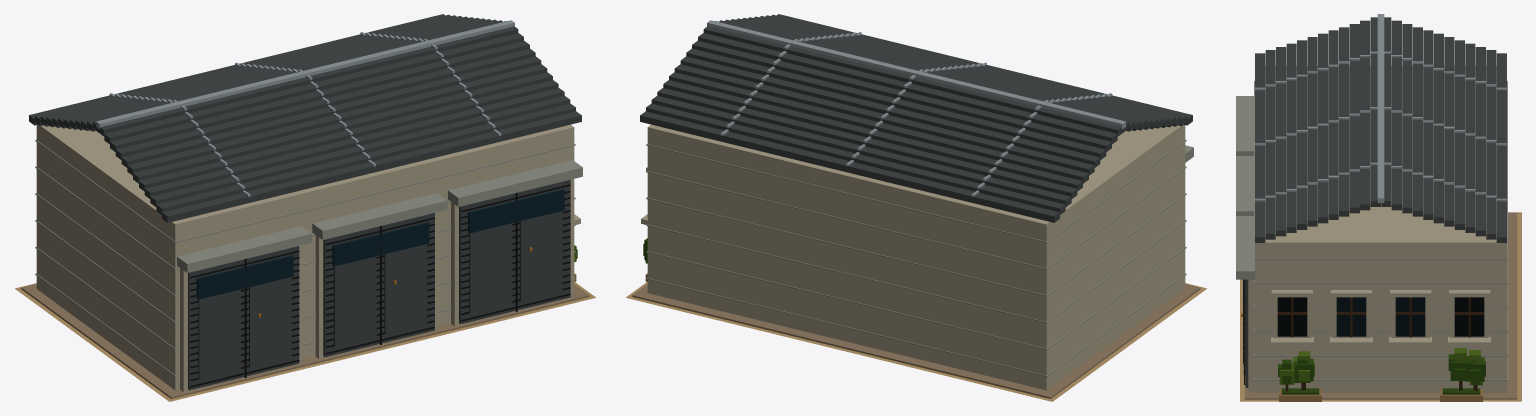
The model's file is SM_Mapa_036.fbx.
3 views of the same model, side by side, from view 1: azimuth 30°, elevation 25°; view 2: azimuth 150°, elevation 25°; view 3: azimuth 270°, elevation 25° (orthographic). The views are drawn at different scales.
Visible parts, largest first — view 1: SM_Mapa_036; view 2: SM_Mapa_036; view 3: SM_Mapa_036.
Part boxes in pixels (x1,y1,x2,y2): SM_Mapa_036: [15, 14, 595, 401]; SM_Mapa_036: [626, 14, 1206, 401]; SM_Mapa_036: [1236, 14, 1521, 401].
Bounding box in the file's own units: 45 × 28.38 × 22.01.
